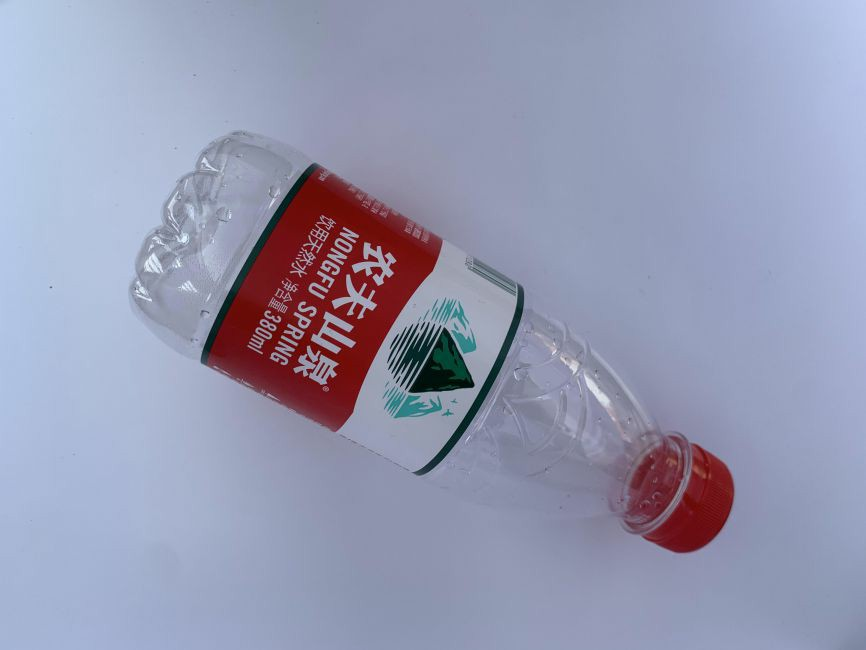bottle: (122, 124, 741, 561)
